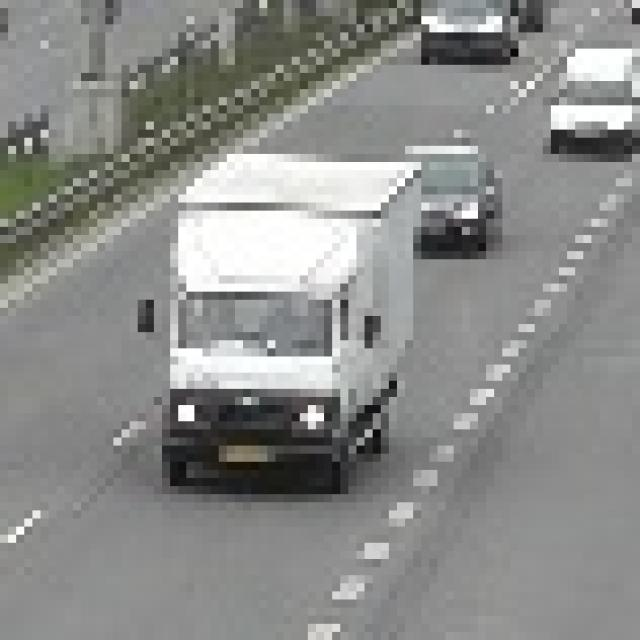truck: (130, 146, 405, 486)
